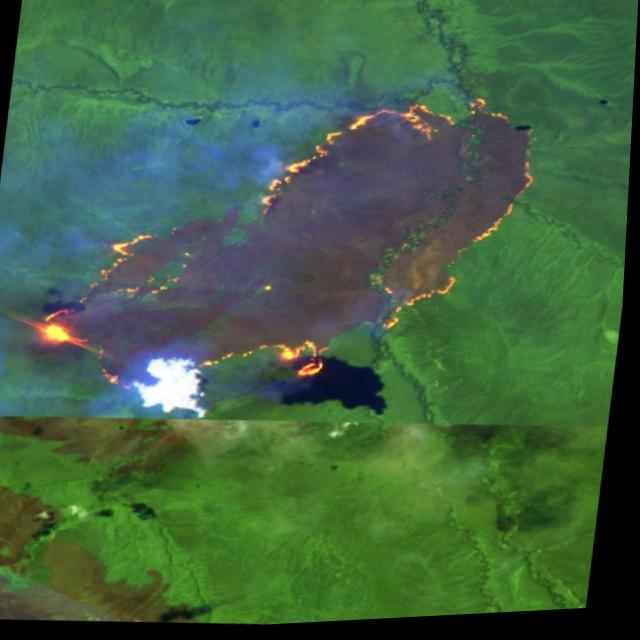fire: (24, 63, 553, 430)
